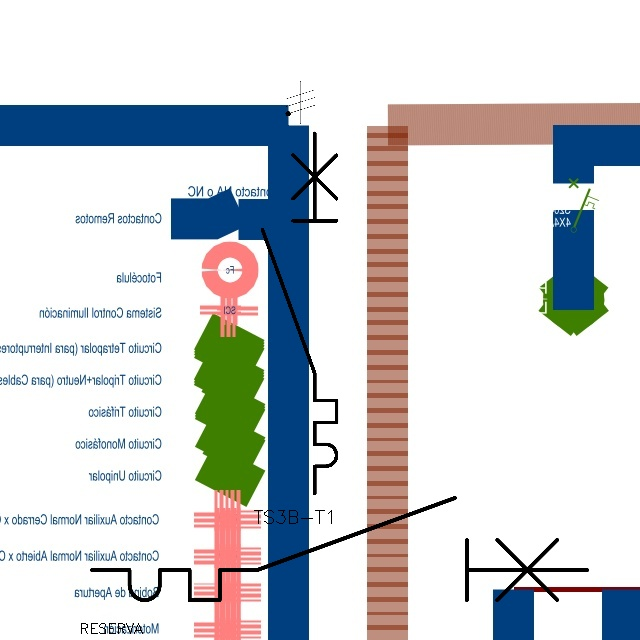interruptor_termomagnetico: (79, 485, 600, 613), (253, 123, 346, 503)
